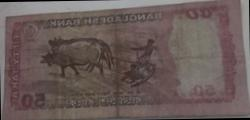50 taka: (9, 9, 244, 115)
